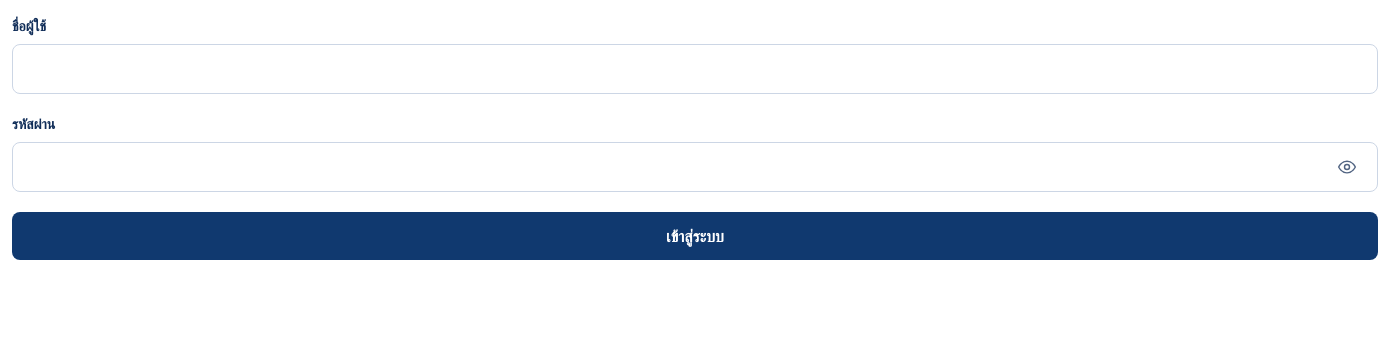
shows backend tenant errors as form feedback while the hospital control is hidden
Type " synthetic-user " into the field labelled "ชื่อผู้ใช้". click: (695, 69)
box: [27, 45, 1363, 93]
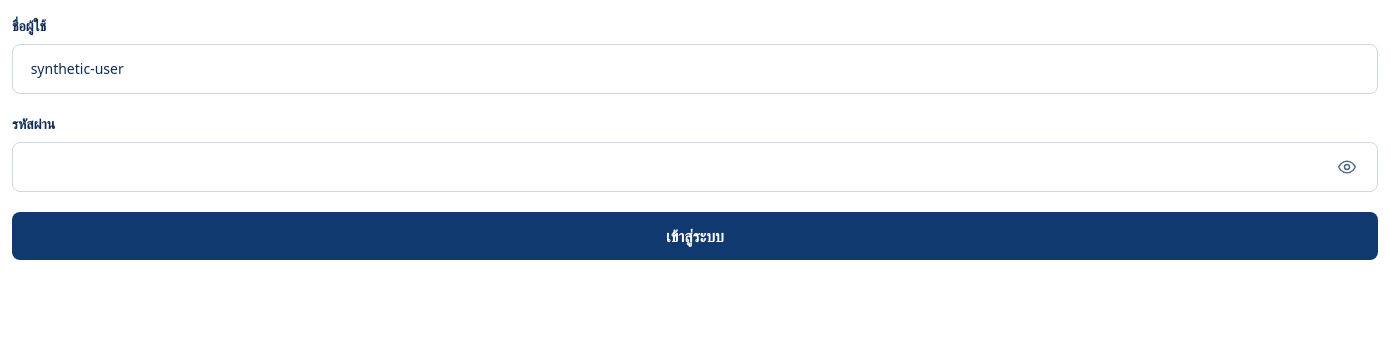
Type "synthetic-password" into the password field labelled "รหัสผ่าน". click: (673, 167)
box: [27, 143, 1319, 191]
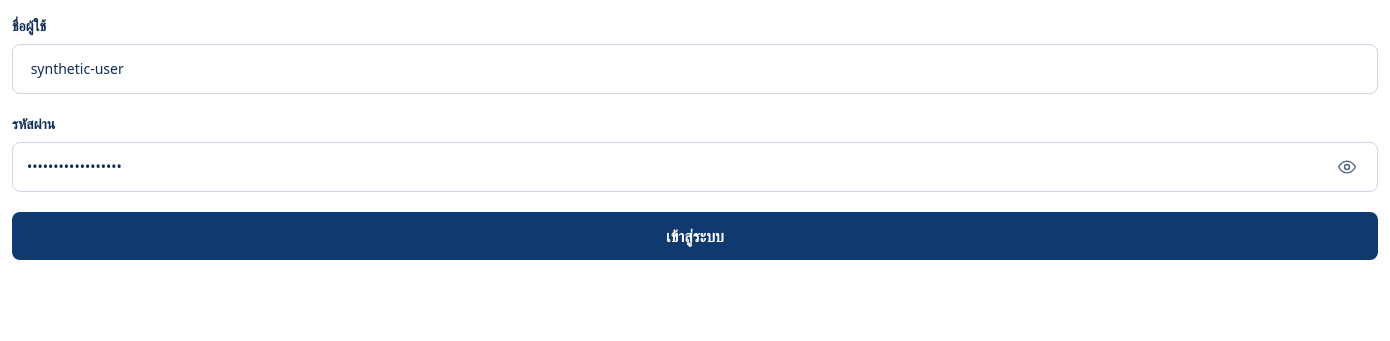
Submit the form
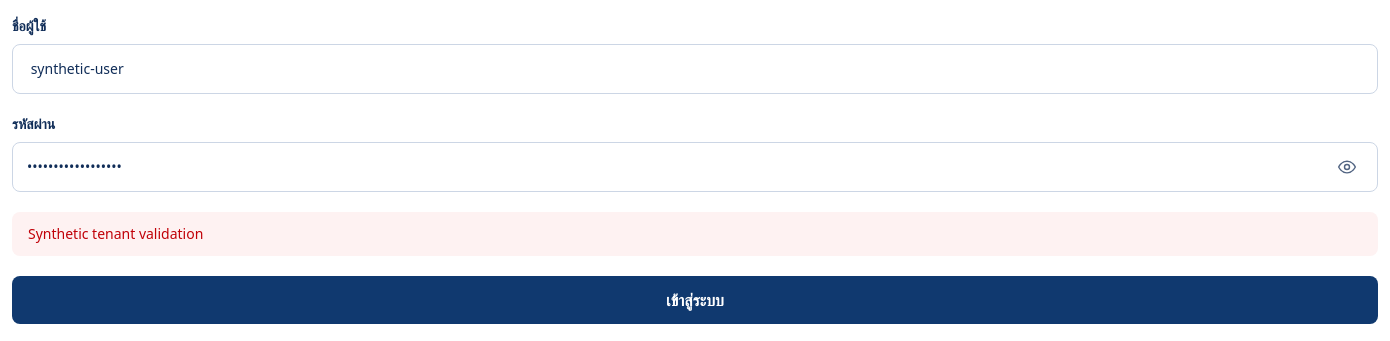
expect the message reads "Synthetic tenant validation": met, box [28, 224, 203, 243]
